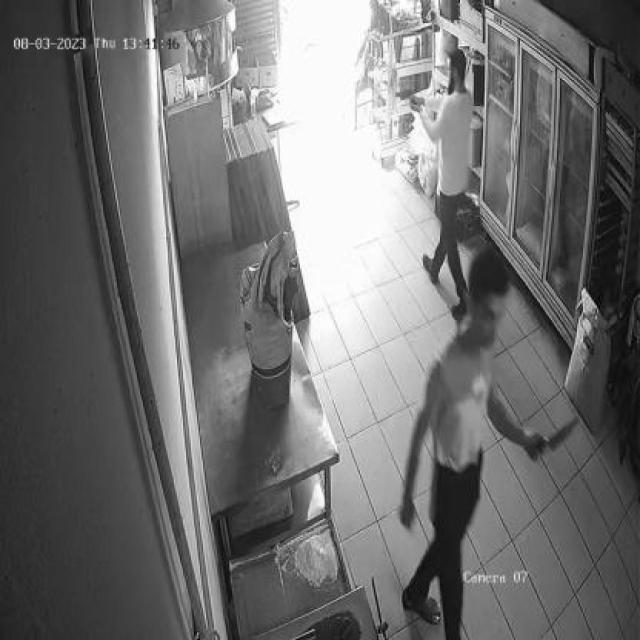weapon: (393, 88, 418, 105)
